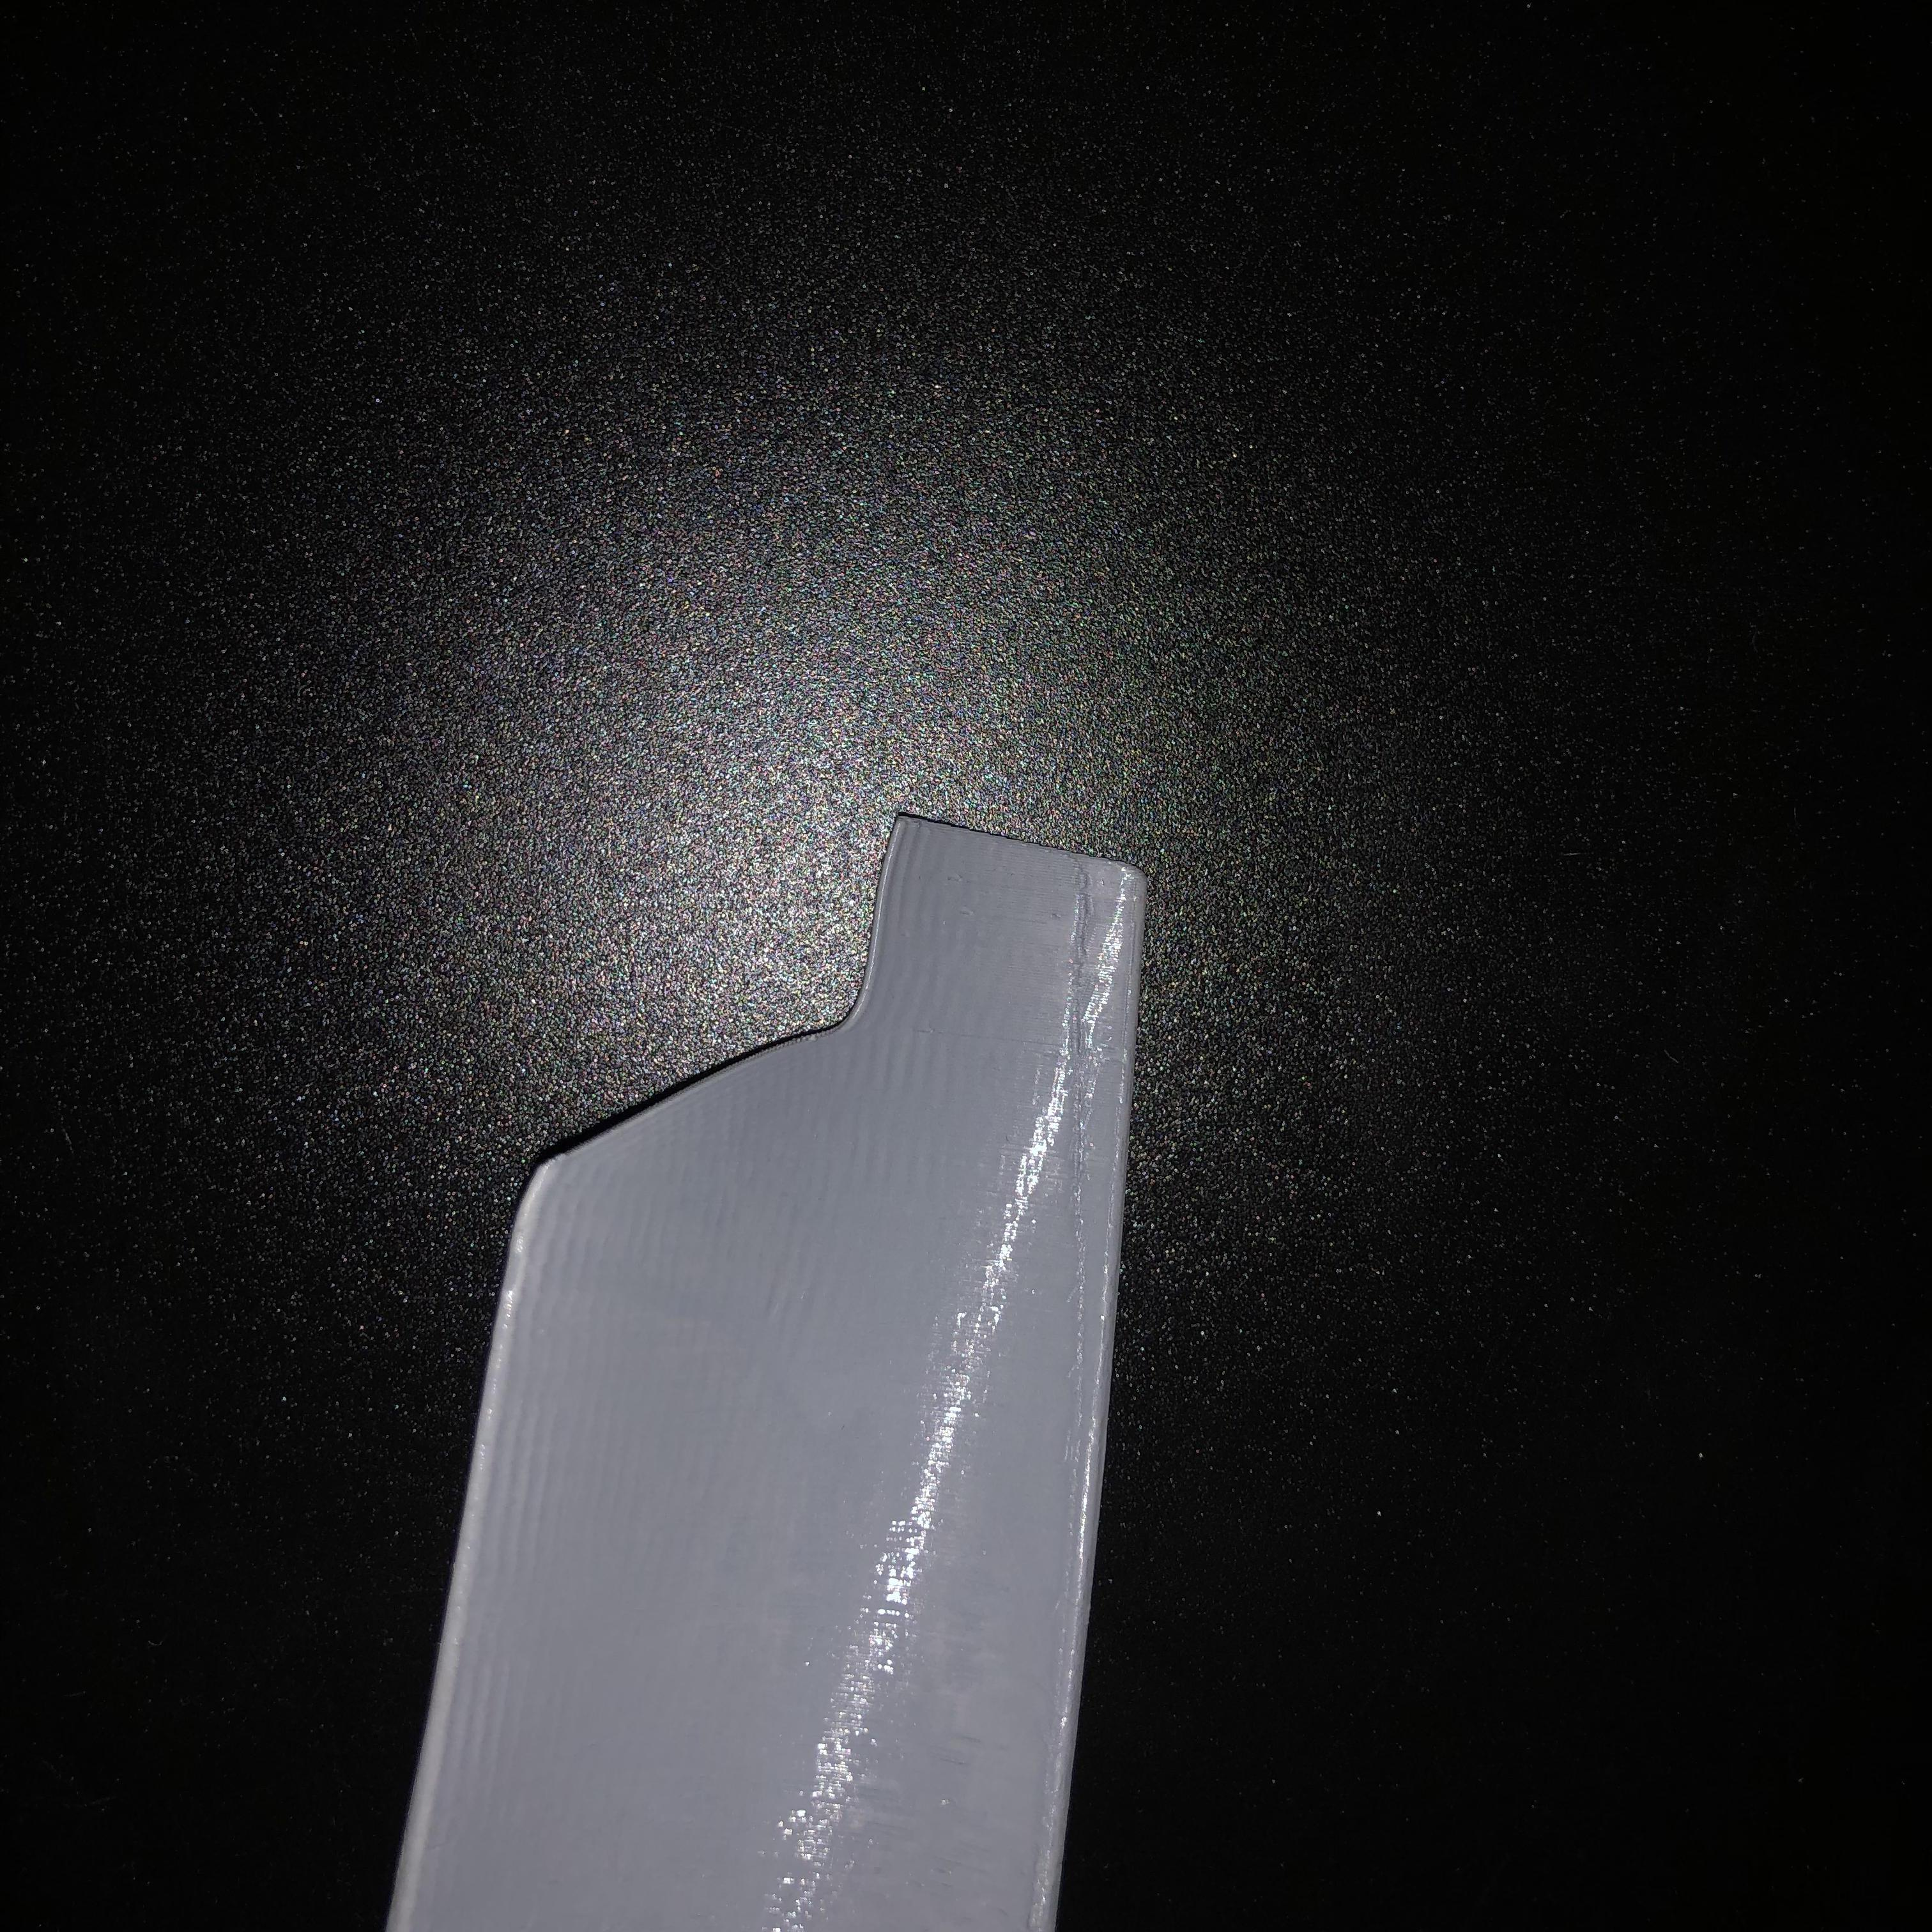fracture: (557, 863, 991, 1189)
